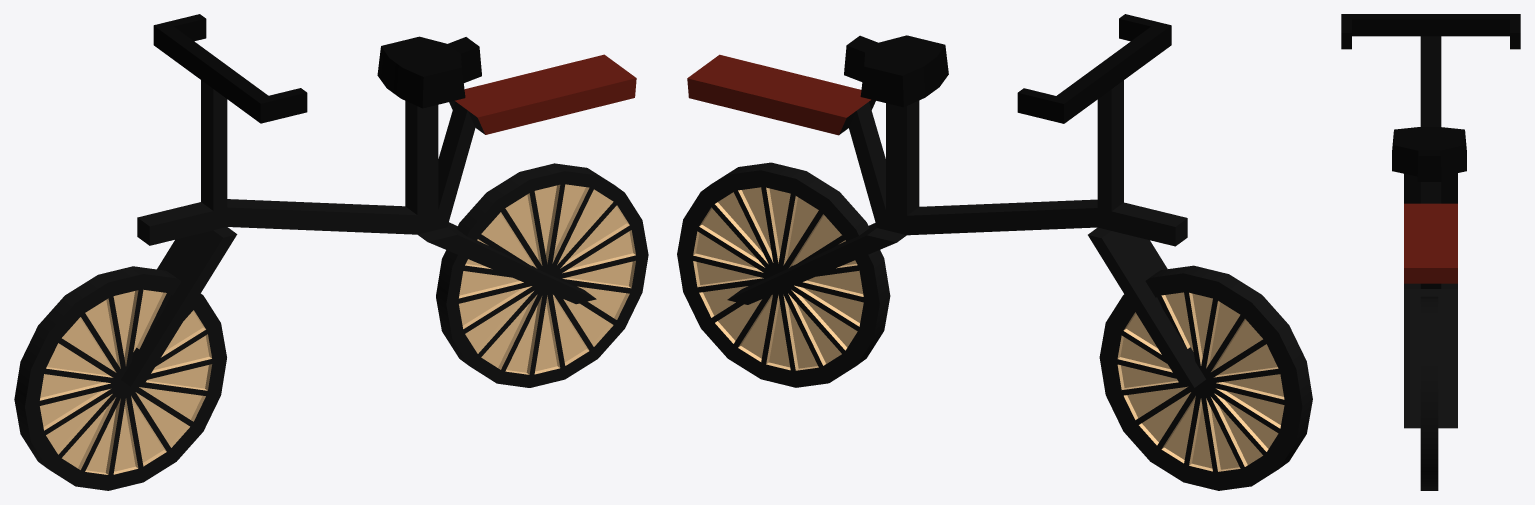
File: MOD_Velo.FBX
The picture shows the model from 3 angles, left to right: view 1: azimuth 30°, elevation 25°; view 2: azimuth 150°, elevation 25°; view 3: azimuth 270°, elevation 25°; orthographic projection. The views are drawn at different scales.
Visible parts, largest first — view 1: Velos; view 2: Velos; view 3: Velos.
Boxes of the visible parts, x1,y1,x2,y2 form: Velos: (14, 14, 648, 490); Velos: (677, 14, 1312, 490); Velos: (1341, 14, 1520, 490).
Bounding box in the file's own units: 88.31 × 53.62 × 26.31.
